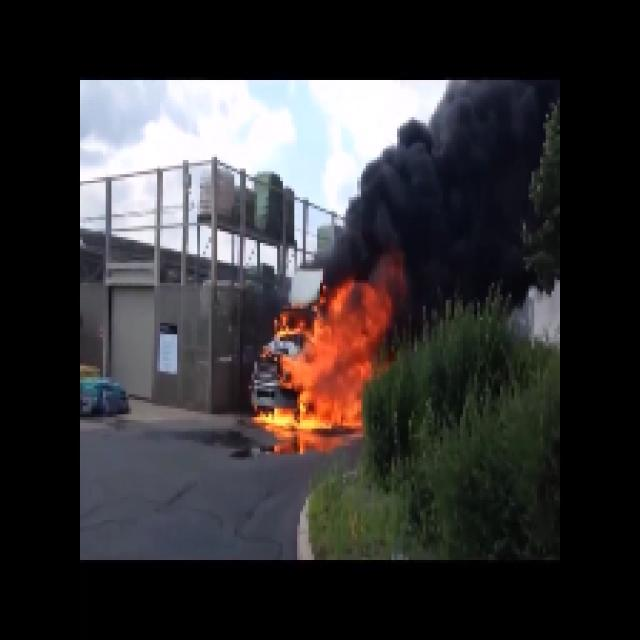fire: (293, 291, 381, 418)
smoke: (448, 88, 544, 300), (360, 157, 440, 283)
